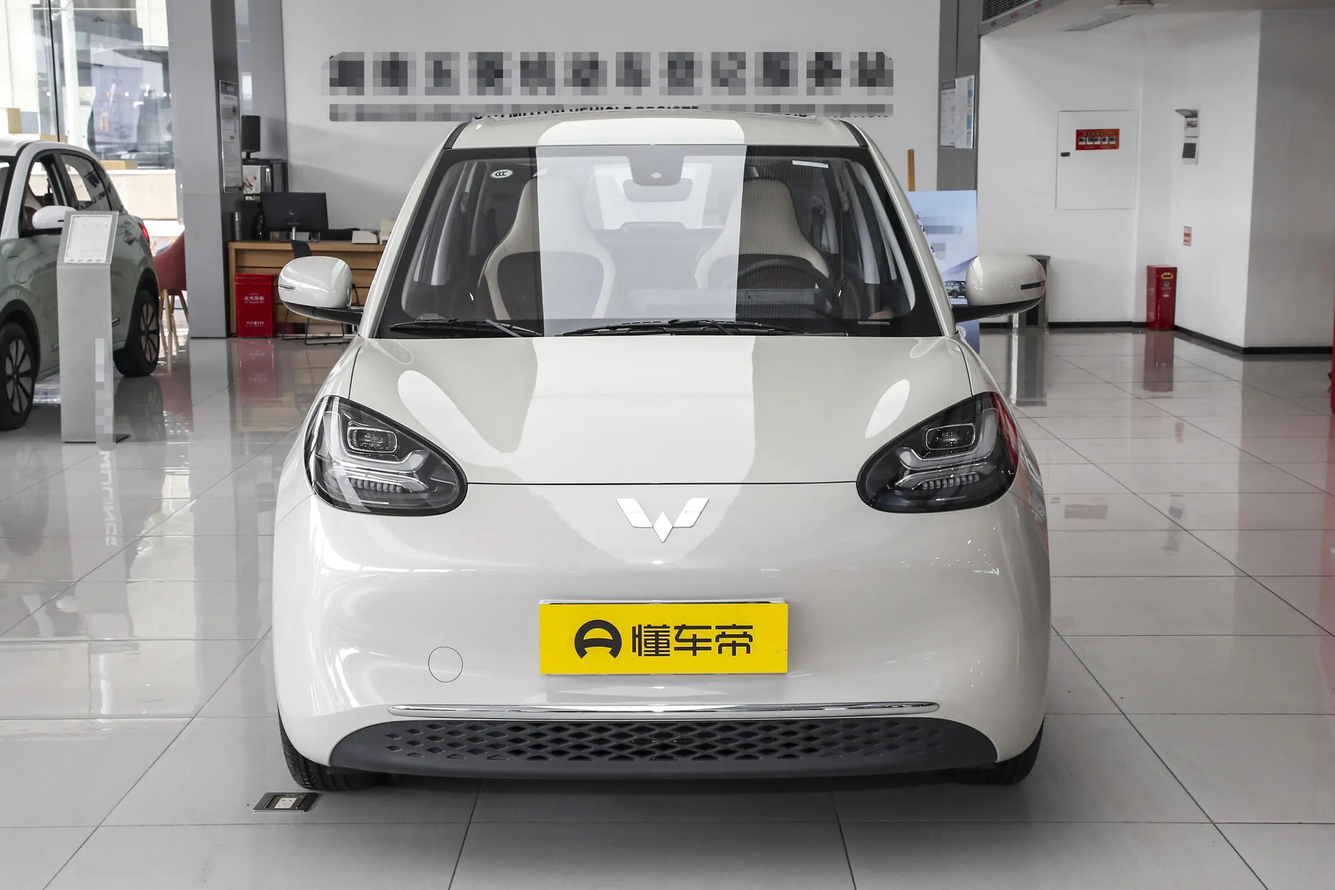SGMW: (616, 498, 708, 542)
